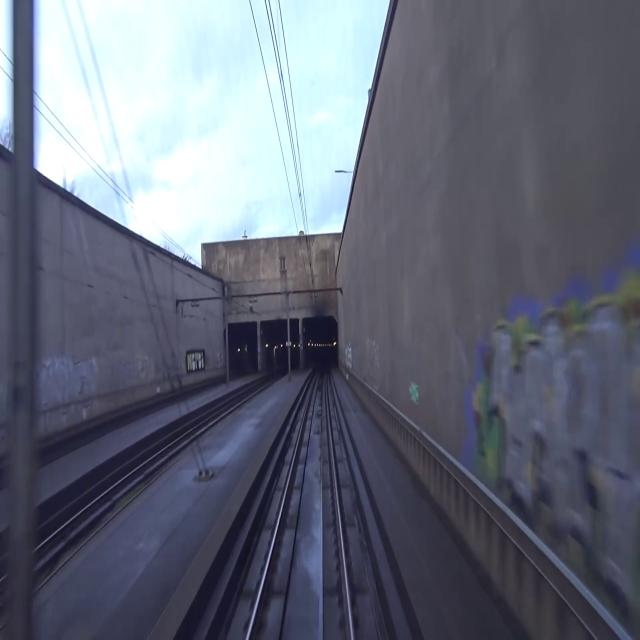rail-track: (249, 373, 349, 639), (36, 437, 172, 543)
